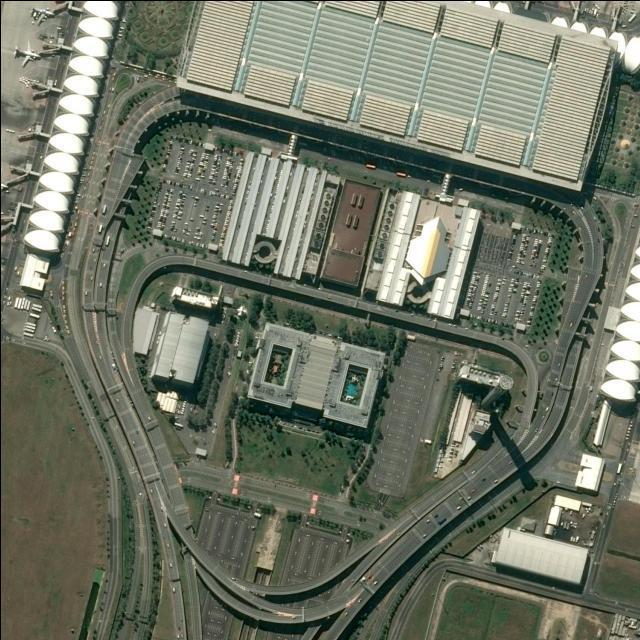Aircraft: (14, 40, 42, 70), (27, 2, 57, 24)
